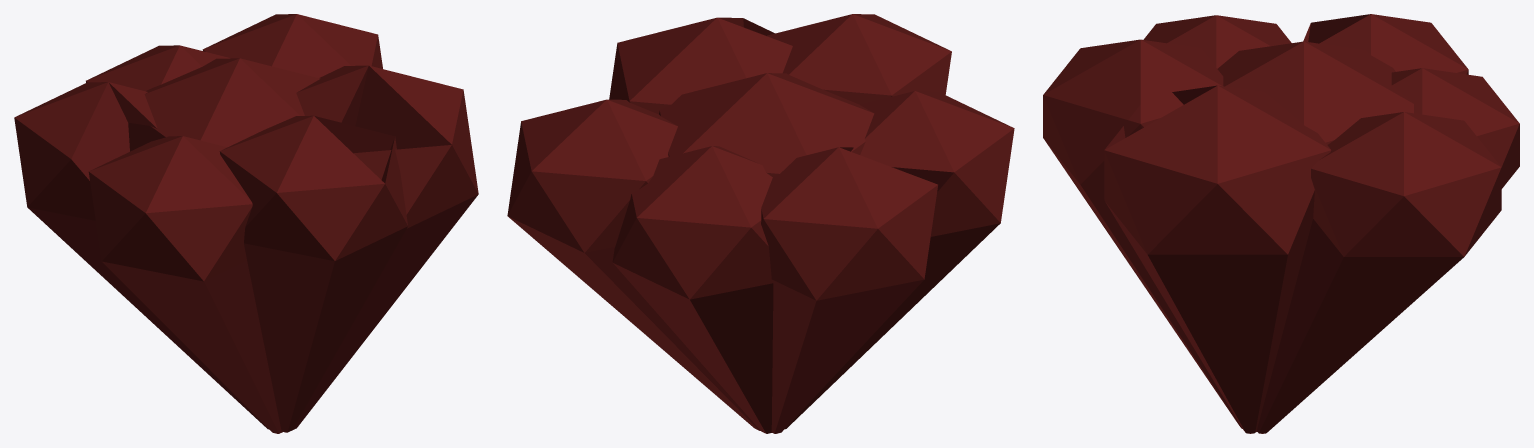
File: Plataforma_MarinaPardalP01.fbx
3 renders of one model, left to right at view 1: azimuth 30°, elevation 25°; view 2: azimuth 150°, elevation 25°; view 3: azimuth 270°, elevation 25°, orthographic. The views are drawn at different scales.
Visible parts, largest first — view 1: Icosphere.011; view 2: Icosphere.011; view 3: Icosphere.011.
Part boxes in pixels (x1,y1,x2,y2): Icosphere.011: (14, 14, 478, 433); Icosphere.011: (507, 14, 1014, 433); Icosphere.011: (1043, 14, 1519, 433).
Bounding box in the file's own units: 544 × 514 × 580.
